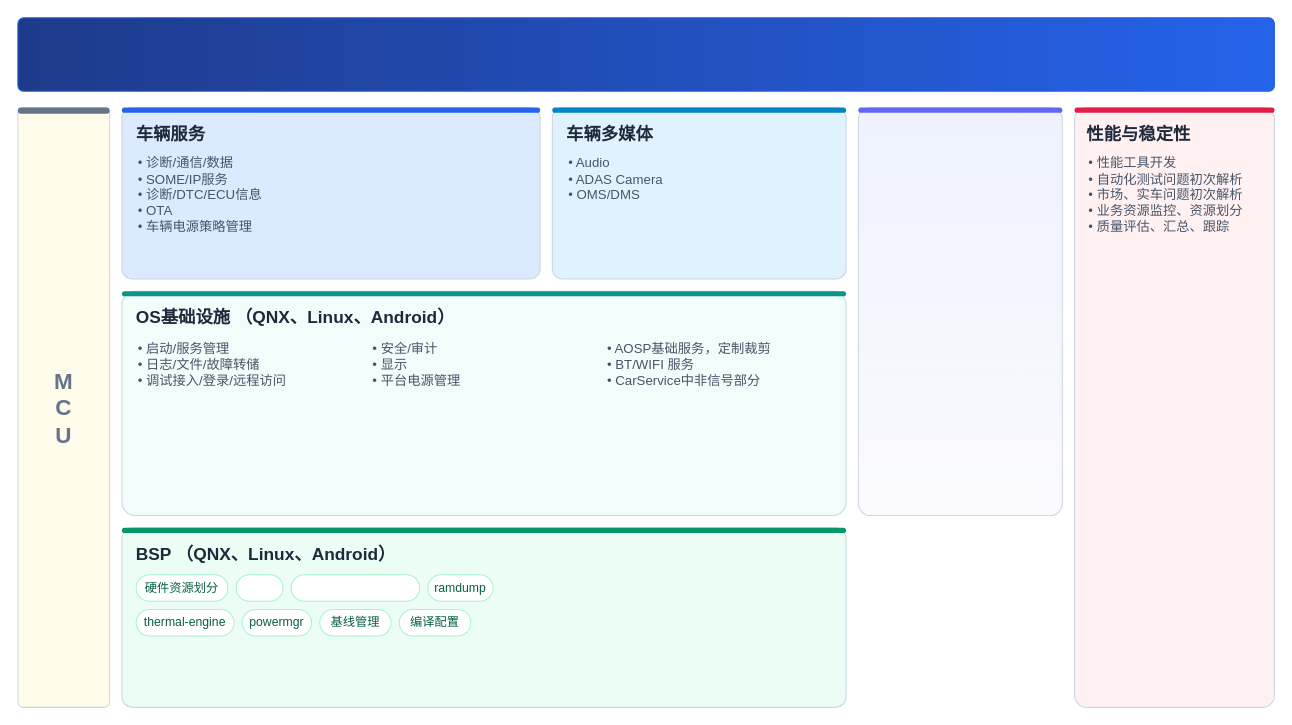
Image size: 1292x725. Some labels were removed from this diagram. Each missing label, with the centre of its shape:
"AIOS" goes at pixel 959 311.
"GVM & hypervisor" goes at pixel 355 587.
"平台交付" goes at pixel 645 54.
"驱动" goes at pixel 259 587.
